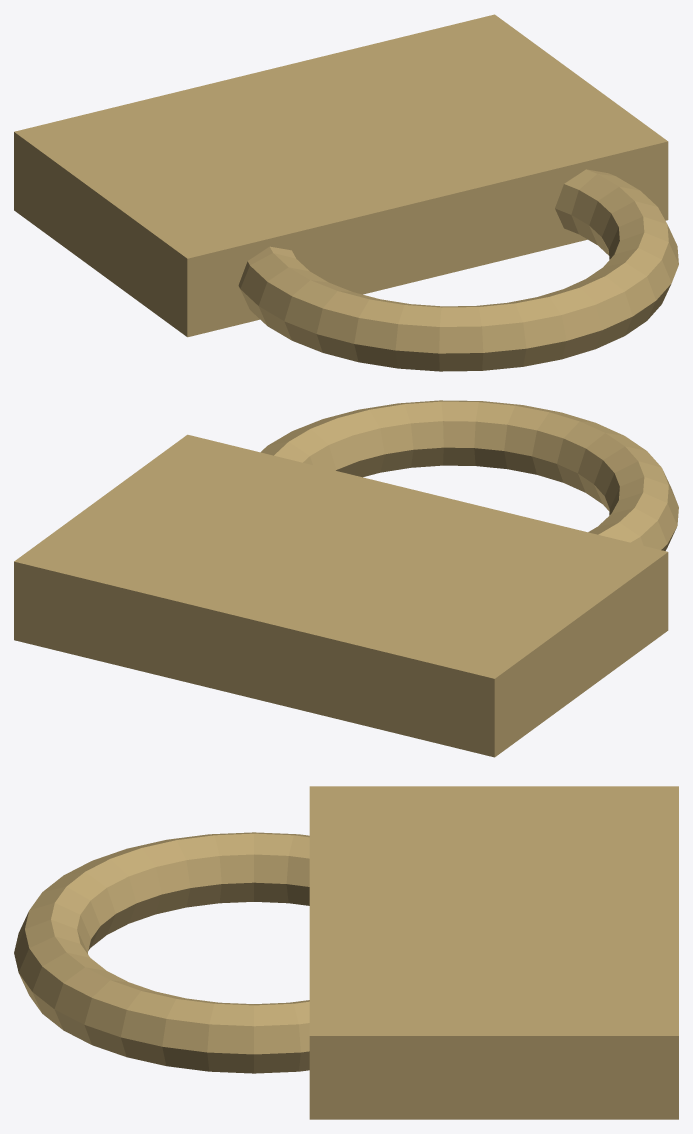
File: sheng_sign_2.glb
3 renders of one model, top to bottom at view 1: azimuth 30°, elevation 25°; view 2: azimuth 150°, elevation 25°; view 3: azimuth 270°, elevation 25°, orthographic. The views are drawn at different scales.
Visible parts, largest first — view 1: world; view 2: world; view 3: world.
Boxes of the visible parts, x1=… form: world: x1=14, y1=14, x2=678, y2=371; world: x1=14, y1=400, x2=678, y2=757; world: x1=14, y1=786, x2=678, y2=1119.
Bounding box in the file's own units: 0.16 × 0.025 × 0.18.
